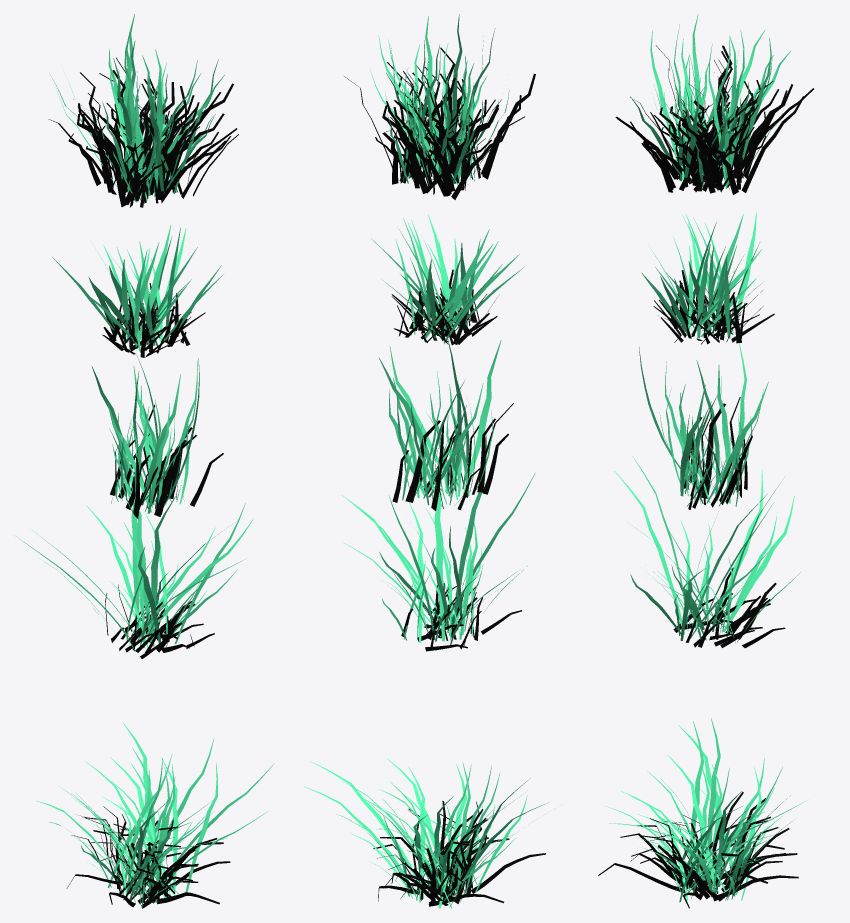
Rendered from Grass.fbx.
3 renders of one model, left to right at view 1: azimuth 30°, elevation 25°; view 2: azimuth 150°, elevation 25°; view 3: azimuth 270°, elevation 25°, orthographic.
Visible parts, largest first — view 1: Grass, Grass.004, Grass.003, Grass.002, Grass.001; view 2: Grass, Grass.004, Grass.002, Grass.003, Grass.001; view 3: Grass, Grass.004, Grass.003, Grass.001, Grass.002.
Part boxes in pixels (box(x1,y1,x2,y2)): Grass: box(48, 14, 238, 207); Grass.004: box(36, 722, 274, 908); Grass.003: box(14, 464, 253, 658); Grass.002: box(91, 355, 223, 518); Grass.001: box(52, 225, 223, 357); Grass: box(344, 14, 535, 199); Grass.004: box(303, 758, 548, 908); Grass.002: box(379, 339, 513, 510); Grass.003: box(342, 434, 535, 651); Grass.001: box(371, 214, 523, 344); Grass: box(615, 14, 813, 194); Grass.004: box(598, 718, 806, 908); Grass.003: box(614, 456, 800, 648); Grass.001: box(641, 212, 774, 344); Grass.002: box(639, 343, 768, 509).
Size of the model in its own units: 129 by 438 by 108.
